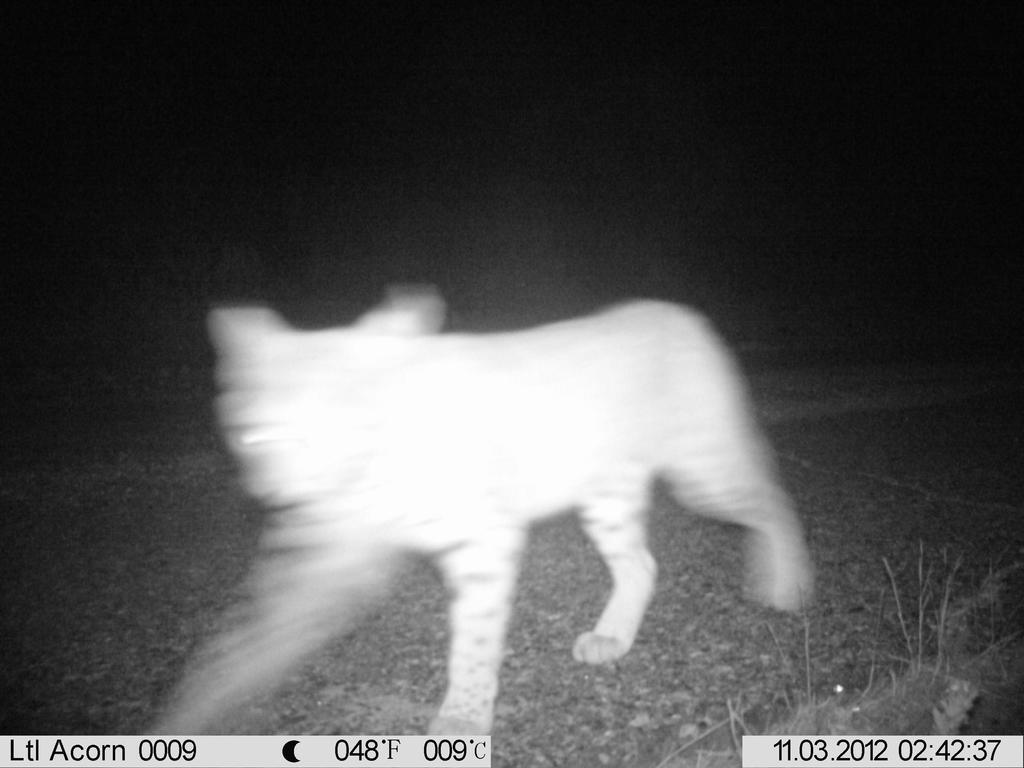bobcat: (133, 242, 839, 757)
